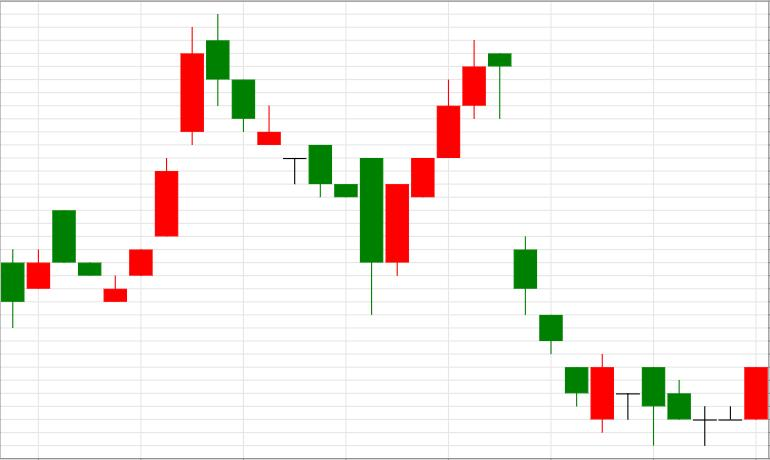bullish_engulfing_rise: (488, 53, 614, 433)
three_white_soldiers_rise: (206, 14, 486, 315)
